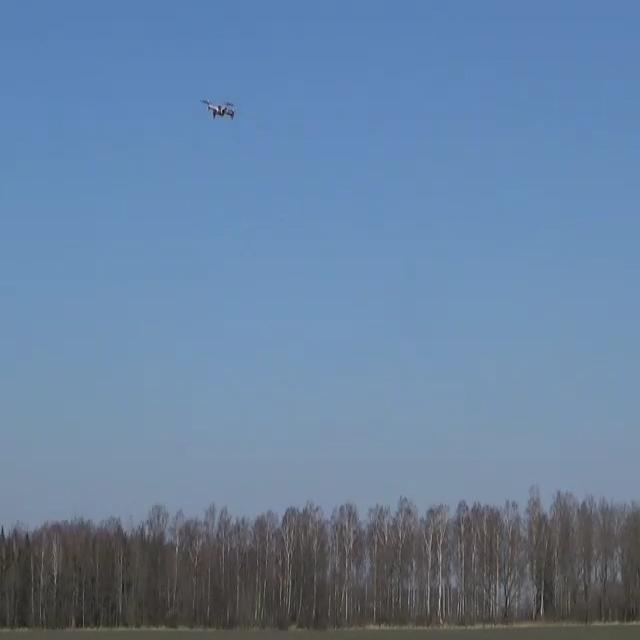drone: (200, 99, 235, 119)
